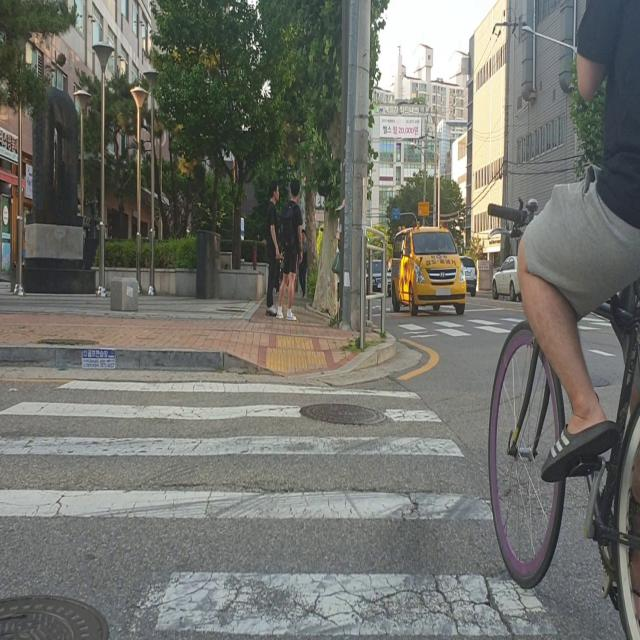횡단보도: (0, 372, 560, 640), (396, 314, 613, 341)
